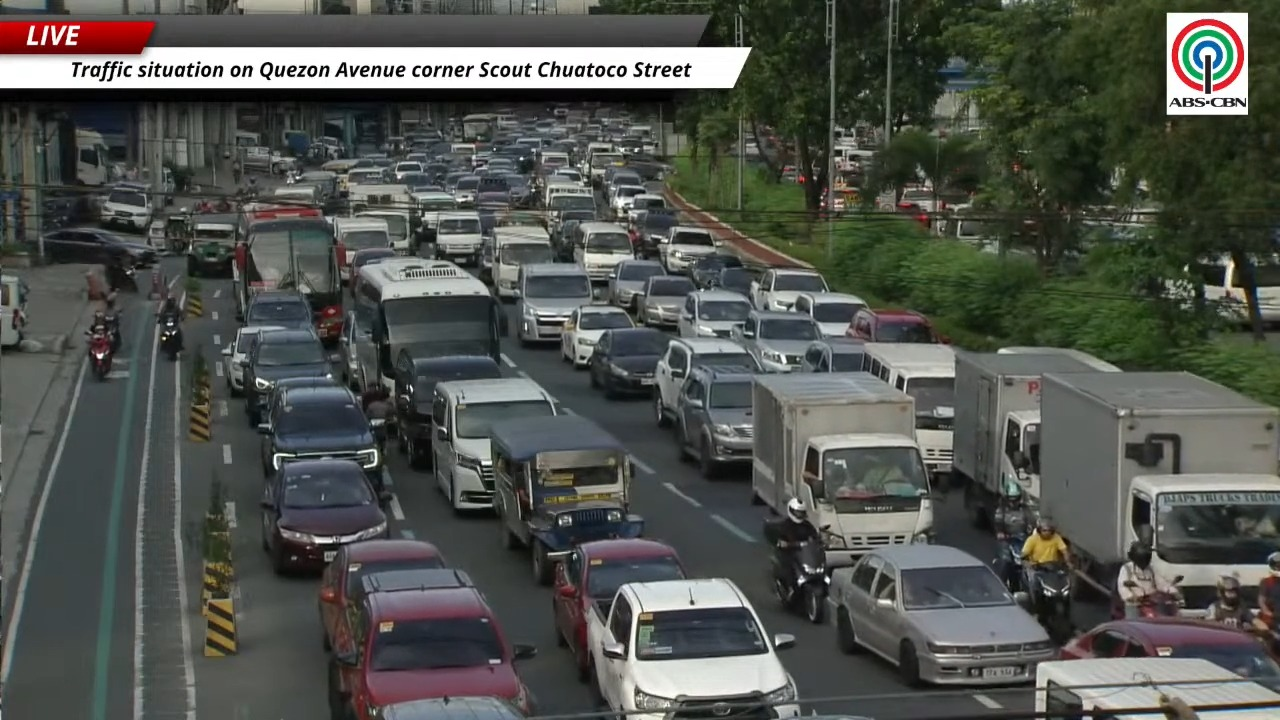bus: (349, 258, 505, 390), (233, 204, 344, 344), (864, 343, 955, 477), (462, 113, 497, 142)
car: (828, 543, 1055, 686), (329, 570, 535, 719), (553, 539, 686, 679), (261, 460, 389, 573), (318, 538, 446, 650), (1059, 617, 1279, 682), (257, 385, 383, 490), (393, 349, 501, 467), (654, 338, 762, 426), (674, 366, 754, 478), (242, 328, 331, 427), (515, 263, 592, 345), (588, 328, 669, 398), (730, 311, 823, 371), (561, 304, 633, 368), (42, 227, 155, 267), (221, 326, 284, 396), (677, 289, 751, 337), (846, 308, 946, 343), (750, 267, 829, 310), (379, 696, 525, 719), (607, 259, 665, 314), (792, 293, 866, 336), (637, 275, 695, 326), (99, 183, 156, 232), (659, 226, 716, 274), (337, 311, 370, 392), (244, 290, 313, 328), (266, 377, 335, 414), (798, 337, 865, 372), (633, 213, 678, 259), (689, 253, 743, 289), (348, 247, 395, 277), (714, 267, 753, 299)
motorcycle: (773, 541, 829, 623), (1025, 562, 1073, 642), (995, 530, 1026, 593), (1136, 591, 1184, 618), (88, 332, 112, 380), (159, 318, 180, 360), (106, 265, 137, 292), (369, 417, 389, 457), (105, 314, 121, 352)
truck: (1040, 372, 1279, 613), (752, 372, 932, 566), (587, 578, 798, 719), (951, 350, 1095, 528), (1035, 656, 1279, 719), (997, 346, 1120, 371), (75, 128, 111, 186)
